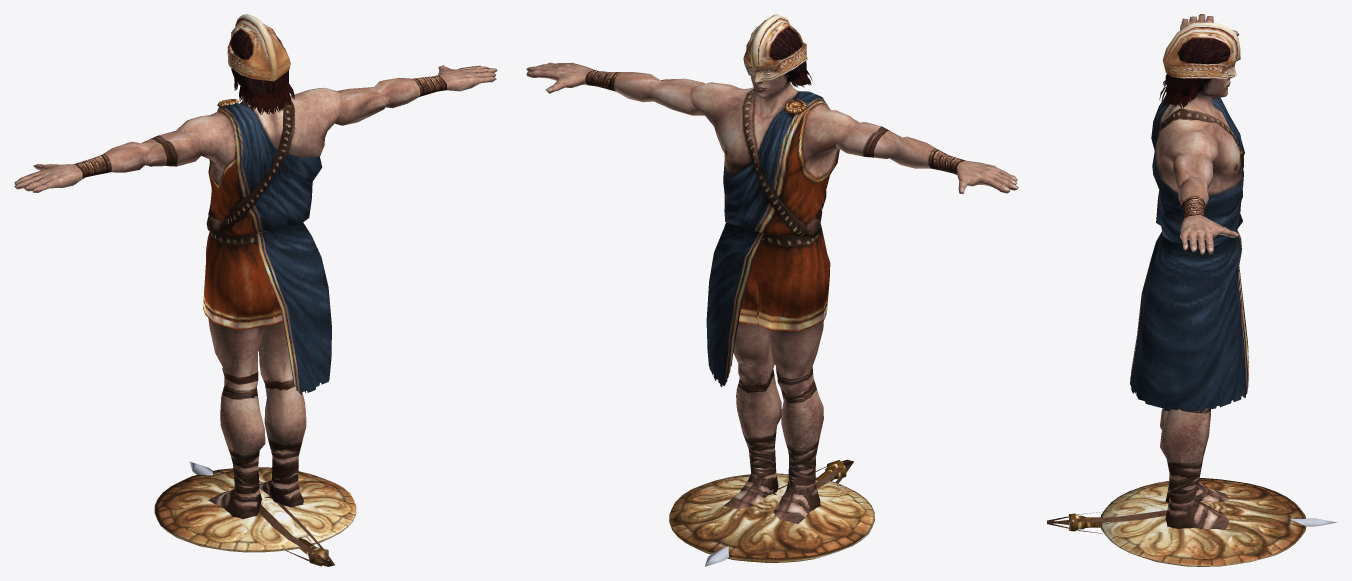
Rendered from MDL_perseus.obj.
3 renders of one model, left to right at view 1: azimuth 30°, elevation 25°; view 2: azimuth 150°, elevation 25°; view 3: azimuth 270°, elevation 25°, orthographic.
Parts seen in each view (by area): view 1: p08g00o05g._0p.001, p08g00o05g._0p.003, p08g00o05g._0p, p08g00o05g._0p.002, p08g00o05g._0p.005; view 2: p08g00o05g._0p.001, p08g00o05g._0p.003, p08g00o05g._0p, p08g00o05g._0p.002, p08g00o05g._0p.005; view 3: p08g00o05g._0p.001, p08g00o05g._0p, p08g00o05g._0p.003, p08g00o05g._0p.002, p08g00o05g._0p.005, p08g00o05g._0p.004.
Part boxes in pixels (bbox=[...]): p08g00o05g._0p.001: bbox=[14, 78, 331, 519]; p08g00o05g._0p.003: bbox=[150, 65, 497, 455]; p08g00o05g._0p: bbox=[154, 467, 356, 552]; p08g00o05g._0p.002: bbox=[74, 29, 446, 566]; p08g00o05g._0p.005: bbox=[227, 14, 290, 81]; p08g00o05g._0p.001: bbox=[706, 70, 1018, 523]; p08g00o05g._0p.003: bbox=[526, 62, 889, 448]; p08g00o05g._0p: bbox=[669, 473, 874, 562]; p08g00o05g._0p.002: bbox=[585, 26, 965, 496]; p08g00o05g._0p.005: bbox=[743, 14, 807, 82]; p08g00o05g._0p.001: bbox=[1130, 14, 1249, 529]; p08g00o05g._0p: bbox=[1100, 478, 1306, 566]; p08g00o05g._0p.003: bbox=[1155, 94, 1244, 462]; p08g00o05g._0p.002: bbox=[1047, 38, 1234, 533]; p08g00o05g._0p.005: bbox=[1162, 22, 1240, 79]; p08g00o05g._0p.004: bbox=[1069, 513, 1337, 531].
Bounding box in the file's own units: 37.38 × 37.78 × 19.19.
Materials: 3 (3 with a texture image).
